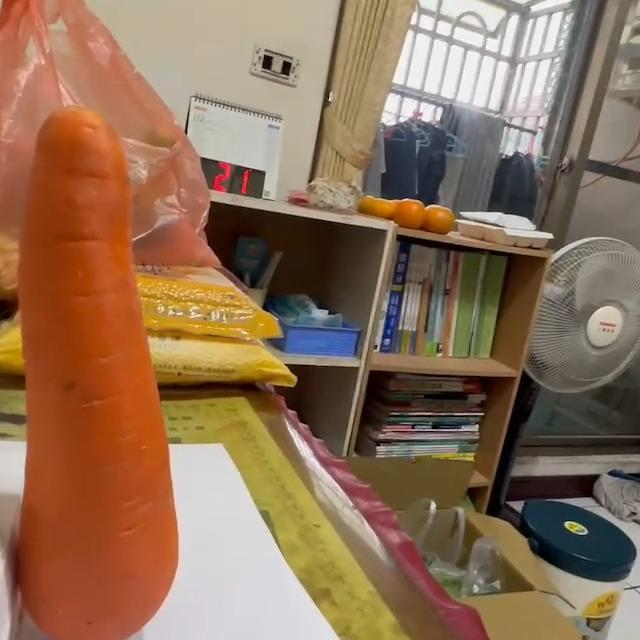carrot: (21, 107, 185, 640)
